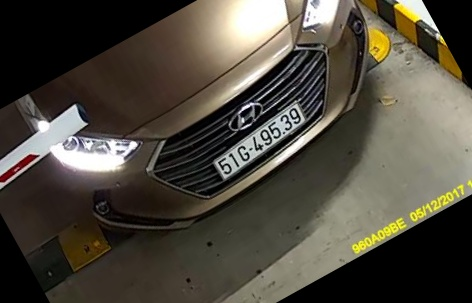plate: (204, 99, 313, 186)
